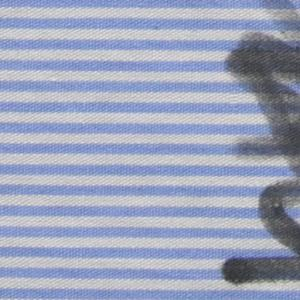Stain: (219, 1, 300, 290)
